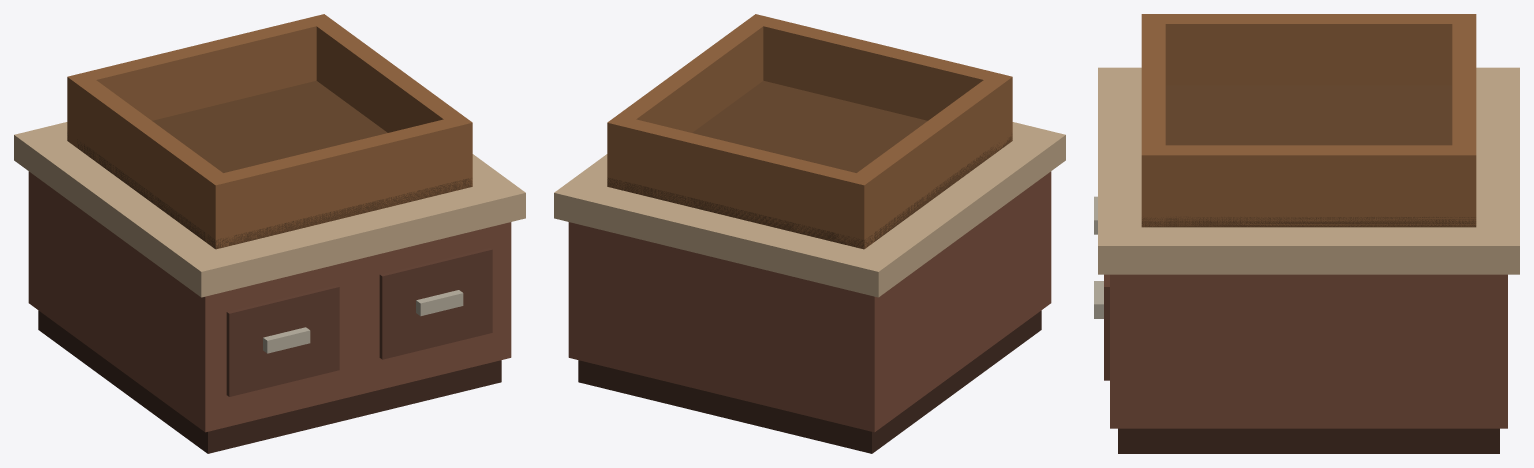
Rendered from k_meadow_bottles.glb.
3 renders of one model, left to right at view 1: azimuth 30°, elevation 25°; view 2: azimuth 150°, elevation 25°; view 3: azimuth 270°, elevation 25°, orthographic. The views are drawn at different scales.
Parts seen in each view (by area): view 1: piece; view 2: piece; view 3: piece.
Boxes of the visible parts, x1,y1,x2,y2 form: piece: [14, 14, 525, 453]; piece: [554, 14, 1065, 453]; piece: [1094, 14, 1519, 453].
Bounding box in the file's own units: 1.06 × 0.8 × 1.07.
